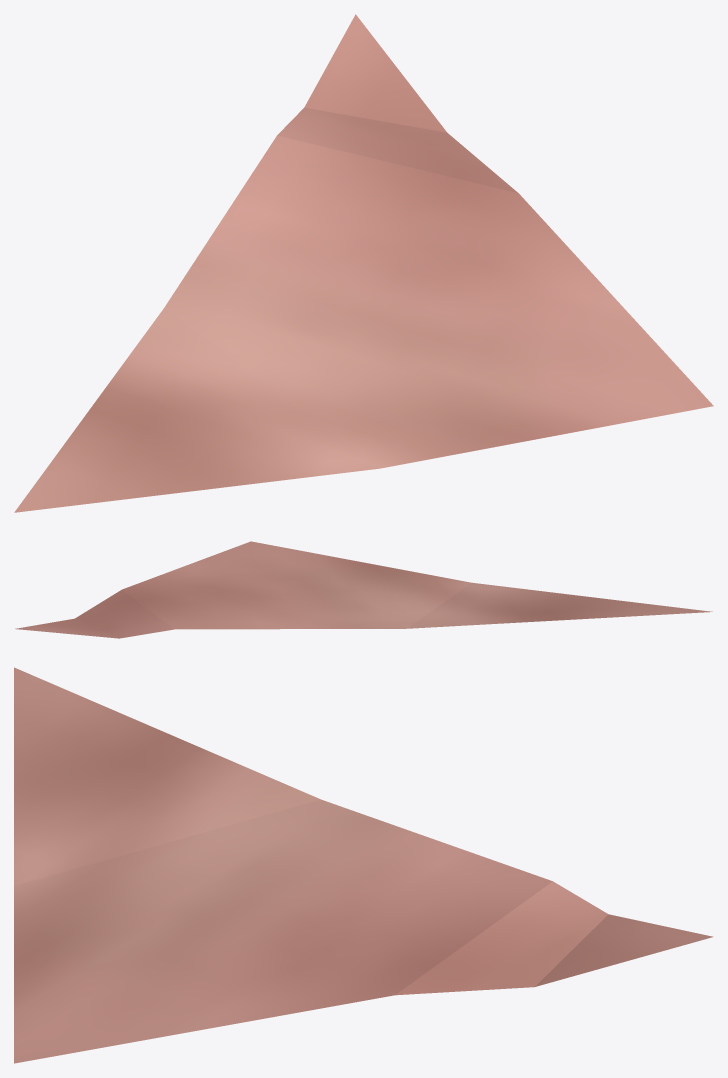
3 renders of one model, top to bottom at view 1: azimuth 30°, elevation 25°; view 2: azimuth 150°, elevation 25°; view 3: azimuth 270°, elevation 25°, orthographic. The views are drawn at different scales.
Bounding box in the file's own units: 0.4106 × 0.0727 × 0.364.
1 material, 1 textured.
